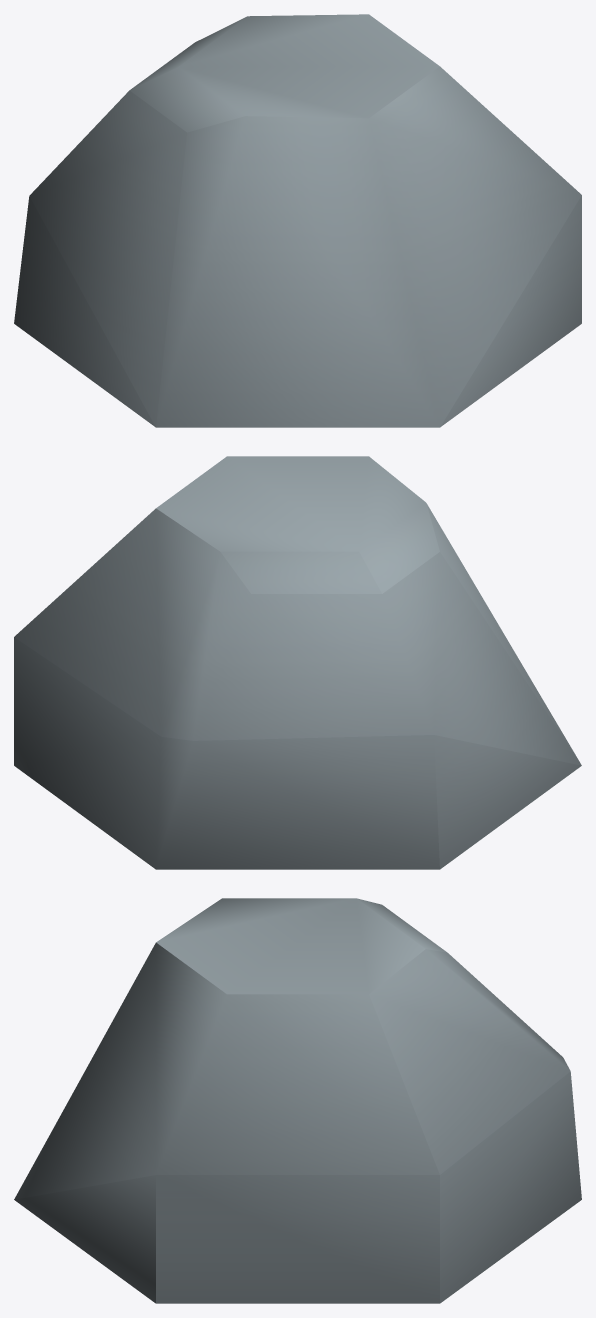
Rendered from rock_b.glb.
The picture shows the model from 3 angles, top to bottom: view 1: azimuth 30°, elevation 25°; view 2: azimuth 150°, elevation 25°; view 3: azimuth 270°, elevation 25°; orthographic projection.
Visible parts, largest first — view 1: rock_B; view 2: rock_B; view 3: rock_B.
Boxes of the visible parts, x1,y1,x2,y2 form: rock_B: [14, 14, 581, 427]; rock_B: [14, 456, 581, 869]; rock_B: [14, 898, 581, 1303].
Bounding box in the file's own units: 2.09 × 1.2 × 2.41.
Materials: 1 (1 with a texture image).
